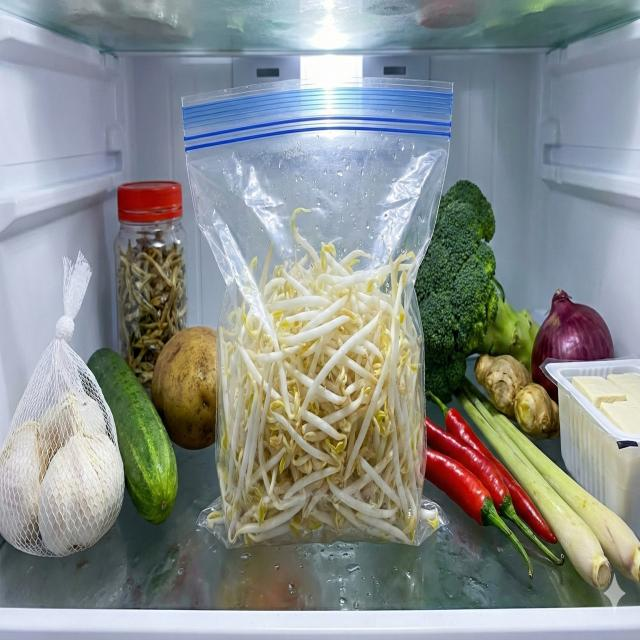anchovies: (116, 228, 189, 392)
bean_sprouts: (206, 208, 444, 548)
brocolli: (414, 179, 541, 393)
chili: (424, 391, 565, 581)
cucumber: (86, 347, 179, 525)
garlic: (0, 388, 125, 558)
ginger: (474, 355, 561, 441)
lemongrass: (453, 376, 640, 592)
onion: (531, 291, 615, 407)
potato: (151, 327, 218, 452)
tofu: (571, 371, 640, 438)
